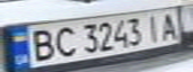2: (96, 19, 115, 53)
3: (78, 20, 100, 55), (127, 16, 148, 47)
4: (112, 16, 133, 50)
A: (157, 10, 184, 42)
B: (24, 27, 57, 63)
C: (51, 24, 81, 58)
I: (142, 11, 166, 43)
